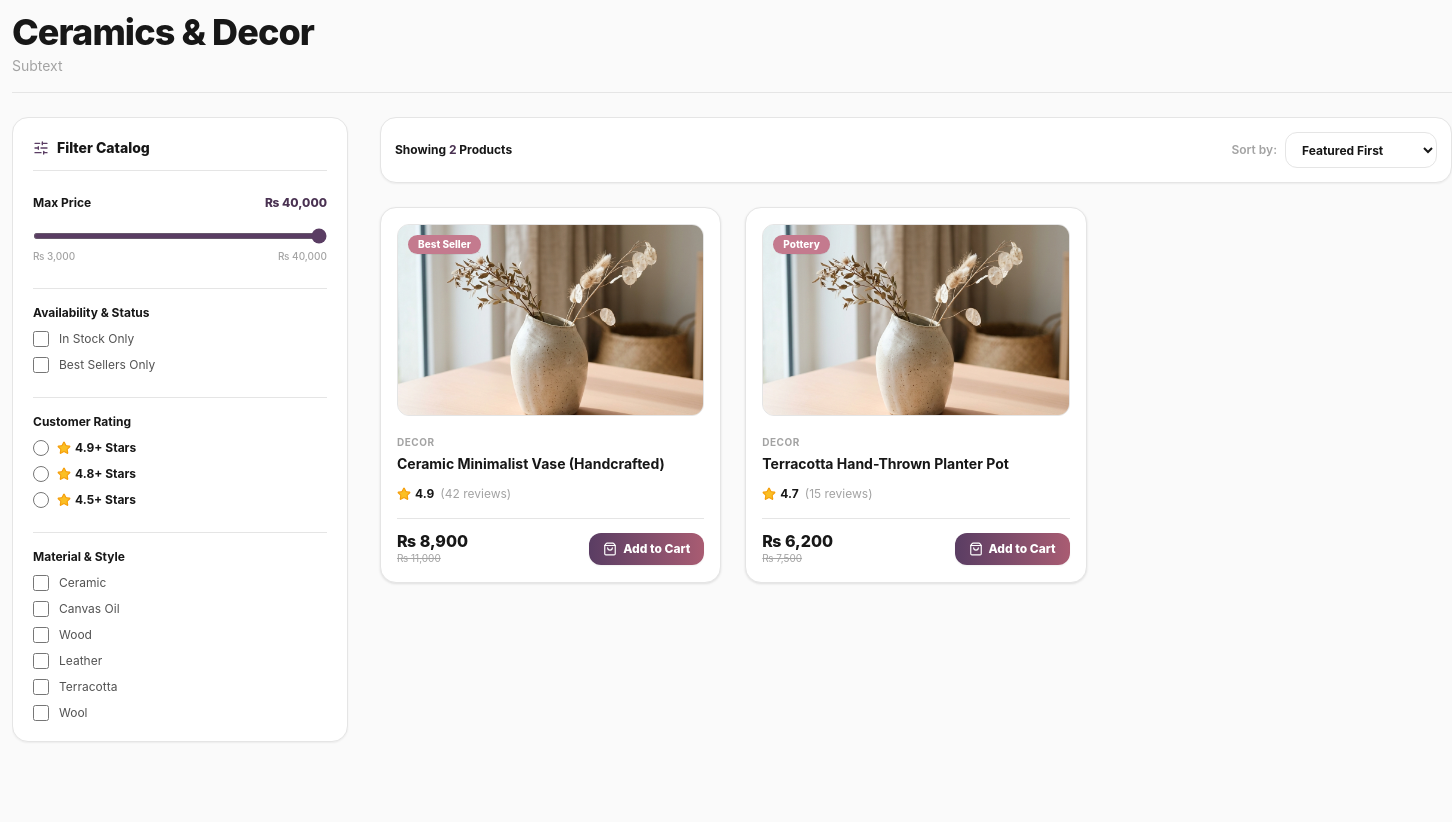
it: Storefront Category Landing & Search Results › CatalogView Component › renders filter sidebar, price range slider, sort dropdown, and products grid
Expected: the heading "Filter Catalog" is shown, x1=57 y1=138 x2=150 y2=158
Check price range slider
Set the slider labelled "Max Price" to "10000" at (94, 236), box x1=33 y1=233 x2=327 y2=239
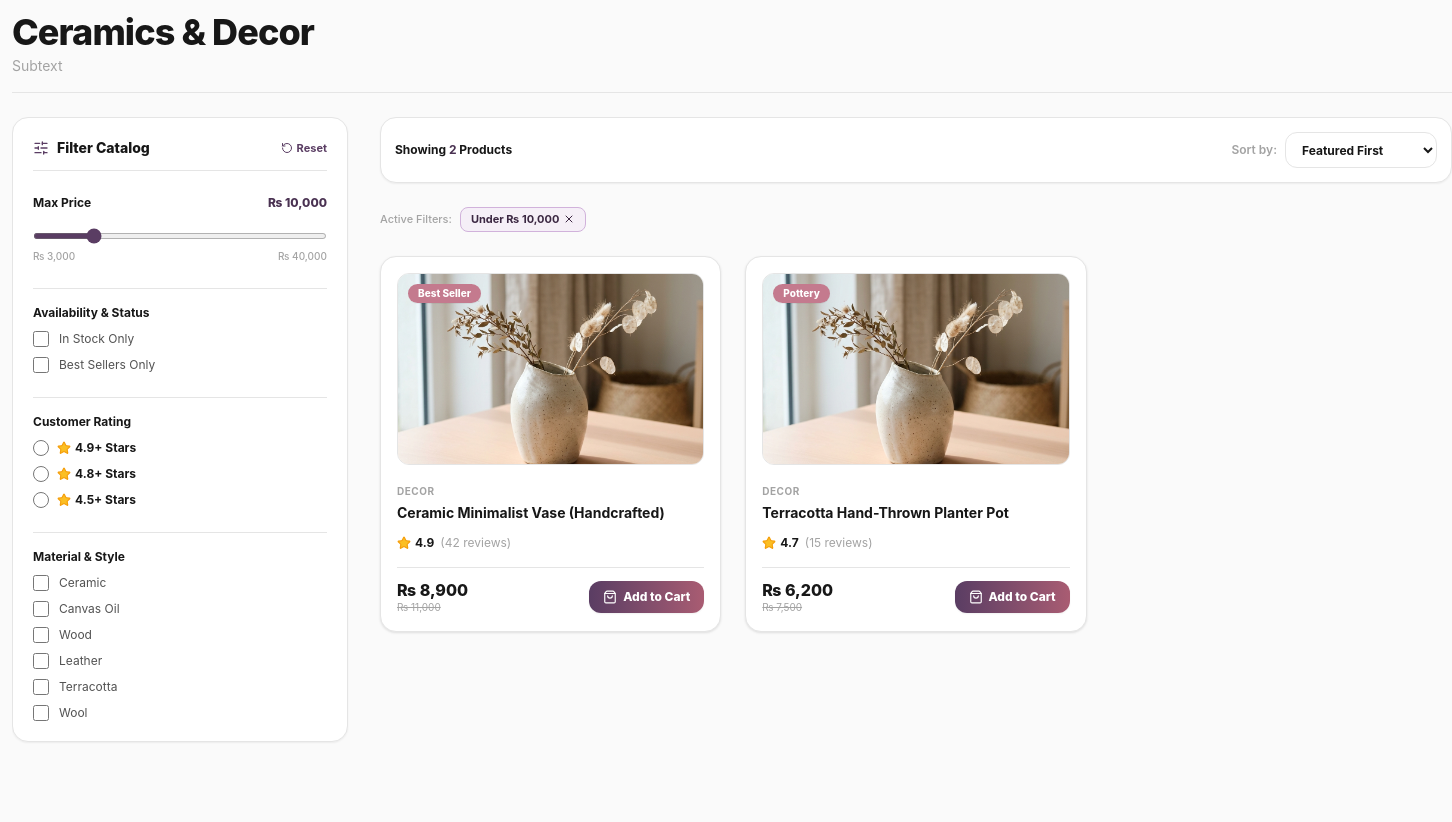
Expected: the text "Under ₨ 10,000" is shown, x1=460 y1=207 x2=586 y2=232
